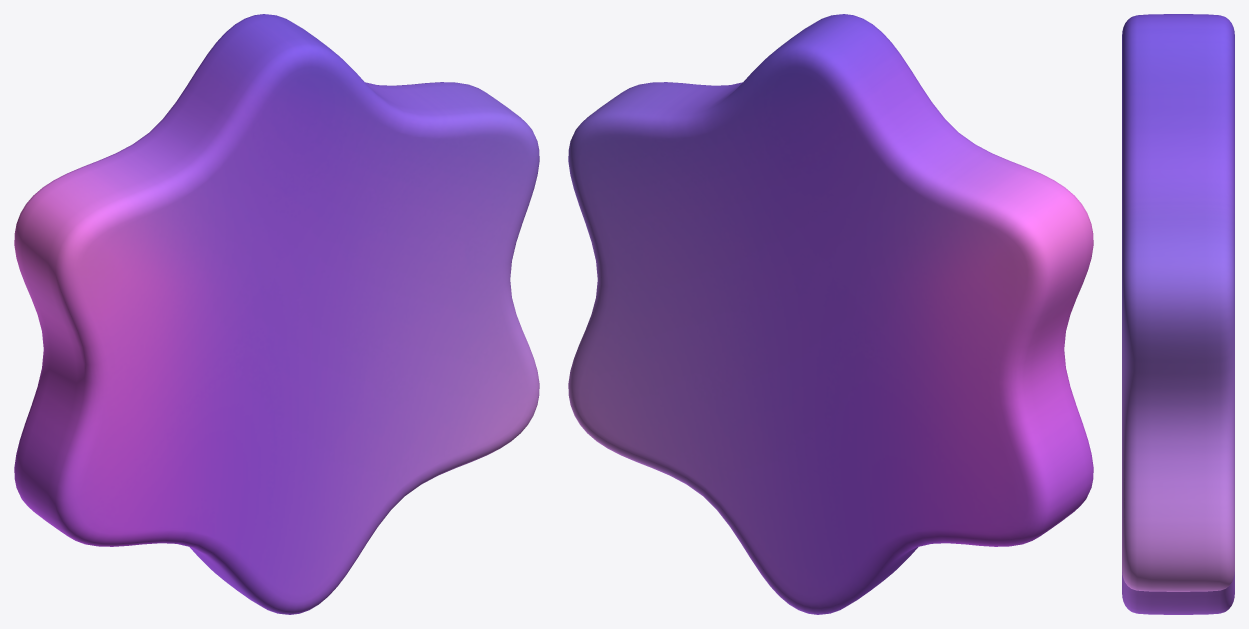
File: service-object.glb
3 renders of one model, left to right at view 1: azimuth 30°, elevation 25°; view 2: azimuth 150°, elevation 25°; view 3: azimuth 270°, elevation 25°, orthographic. The views are drawn at different scales.
Parts seen in each view (by area): view 1: Circle.005; view 2: Circle.005; view 3: Circle.005.
Part boxes in pixels (x1=…): Circle.005: x1=14, y1=14, x2=539, y2=614; Circle.005: x1=568, y1=14, x2=1093, y2=614; Circle.005: x1=1122, y1=14, x2=1234, y2=614.
Size of the model in its own units: 1.84 by 2.07 by 0.3596.
1 material, 1 textured.
